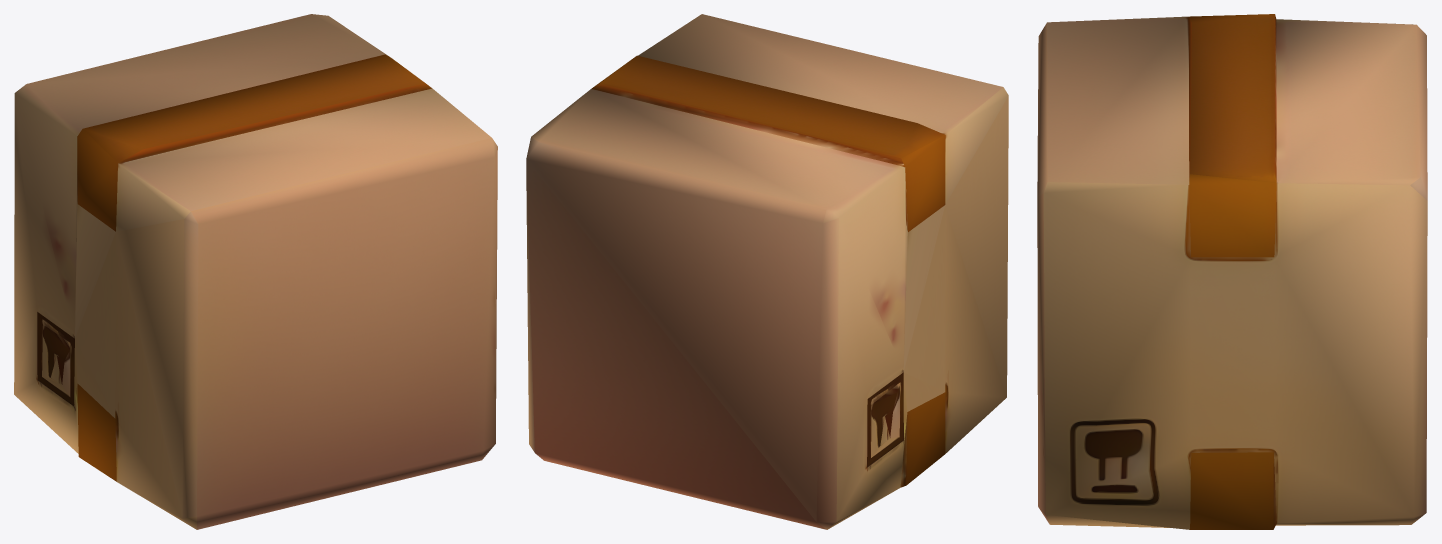
3 views of the same model, side by side, from view 1: azimuth 30°, elevation 25°; view 2: azimuth 150°, elevation 25°; view 3: azimuth 270°, elevation 25° (orthographic). The views are drawn at different scales.
Parts seen in each view (by area): view 1: texture_pbr_v128; view 2: texture_pbr_v128; view 3: texture_pbr_v128.
Part boxes in pixels (bbox=[...]): texture_pbr_v128: bbox=[14, 14, 497, 529]; texture_pbr_v128: bbox=[526, 14, 1008, 529]; texture_pbr_v128: bbox=[1037, 14, 1427, 529].
Size of the model in its own units: 73.45 by 73.79 by 72.32.
1 material, 1 textured.
